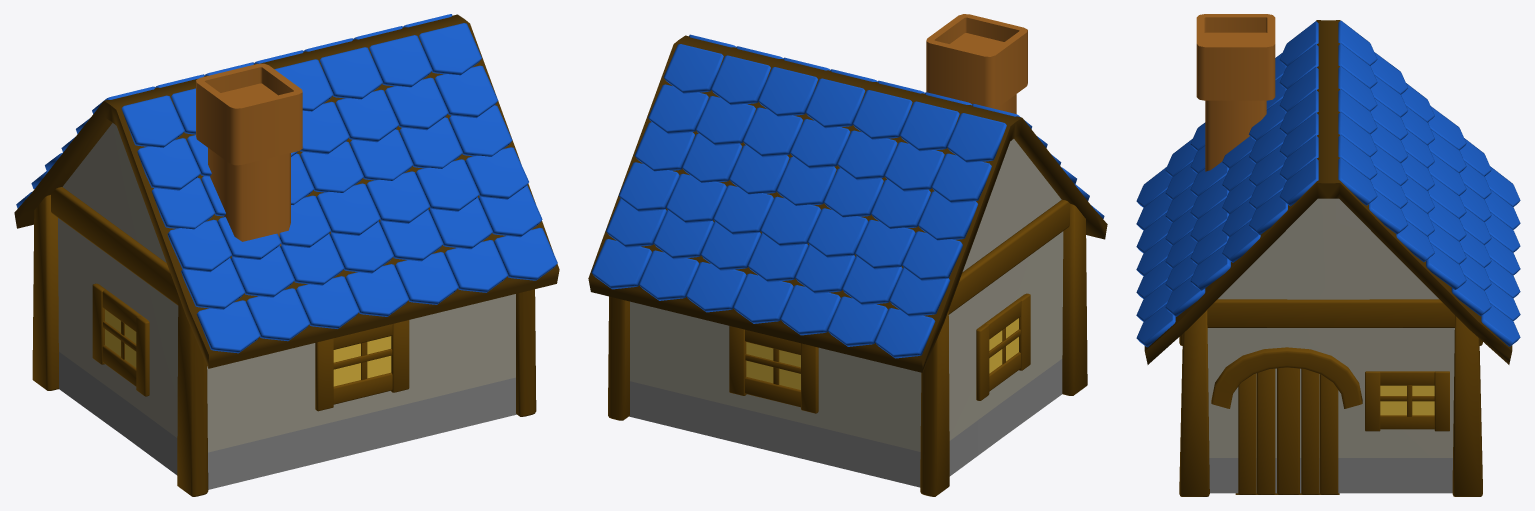
File: House_Level1_BlueTeam.glb
3 views of the same model, side by side, from view 1: azimuth 30°, elevation 25°; view 2: azimuth 150°, elevation 25°; view 3: azimuth 270°, elevation 25° (orthographic). The views are drawn at different scales.
Visible parts, largest first — view 1: House_Level1_BlueTeam; view 2: House_Level1_BlueTeam; view 3: House_Level1_BlueTeam.
Part boxes in pixels (x1=…): House_Level1_BlueTeam: x1=14, y1=14, x2=559, y2=496; House_Level1_BlueTeam: x1=588, y1=14, x2=1107, y2=496; House_Level1_BlueTeam: x1=1136, y1=14, x2=1520, y2=496.
Size of the model in its own units: 11.22 by 11.19 by 11.16.
